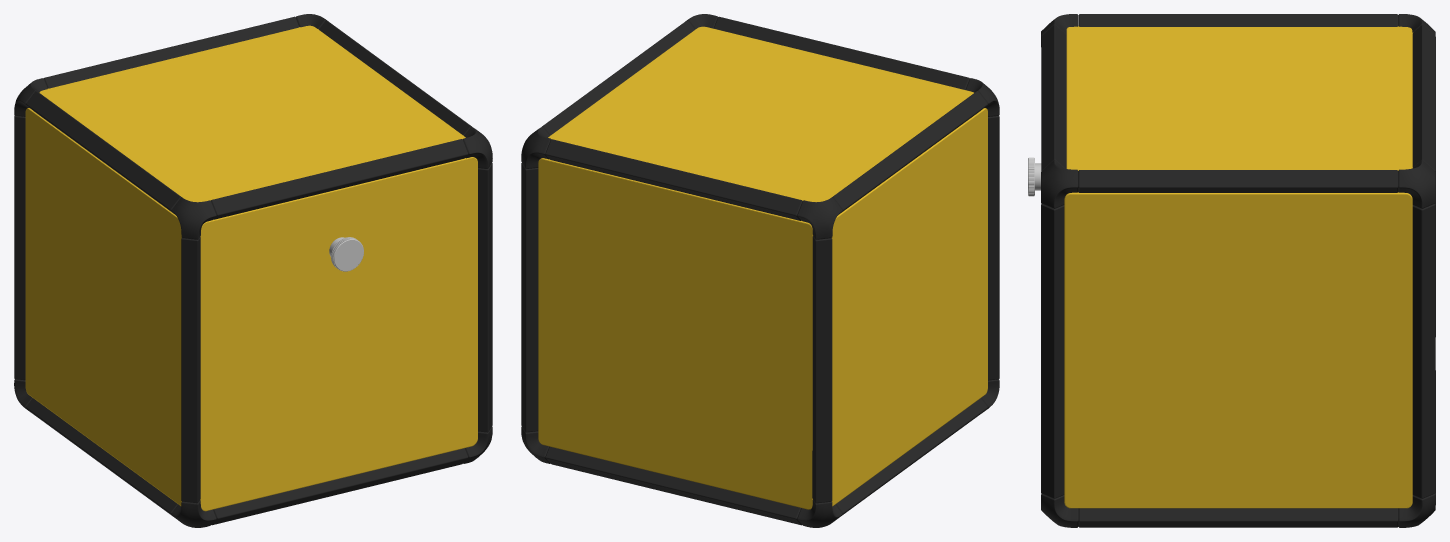
The picture shows the model from 3 angles, left to right: view 1: azimuth 30°, elevation 25°; view 2: azimuth 150°, elevation 25°; view 3: azimuth 270°, elevation 25°; orthographic projection. The views are drawn at different scales.
Parts seen in each view (by area): view 1: 329x329x329; view 2: 329x329x329; view 3: 329x329x329.
Boxes of the visible parts, left/top/right/bottom form: 329x329x329: left=14, top=14, right=492, bottom=527; 329x329x329: left=521, top=14, right=999, bottom=527; 329x329x329: left=1028, top=14, right=1435, bottom=527.
Bounding box in the file's own units: 0.4067 × 0.4067 × 0.4196.
